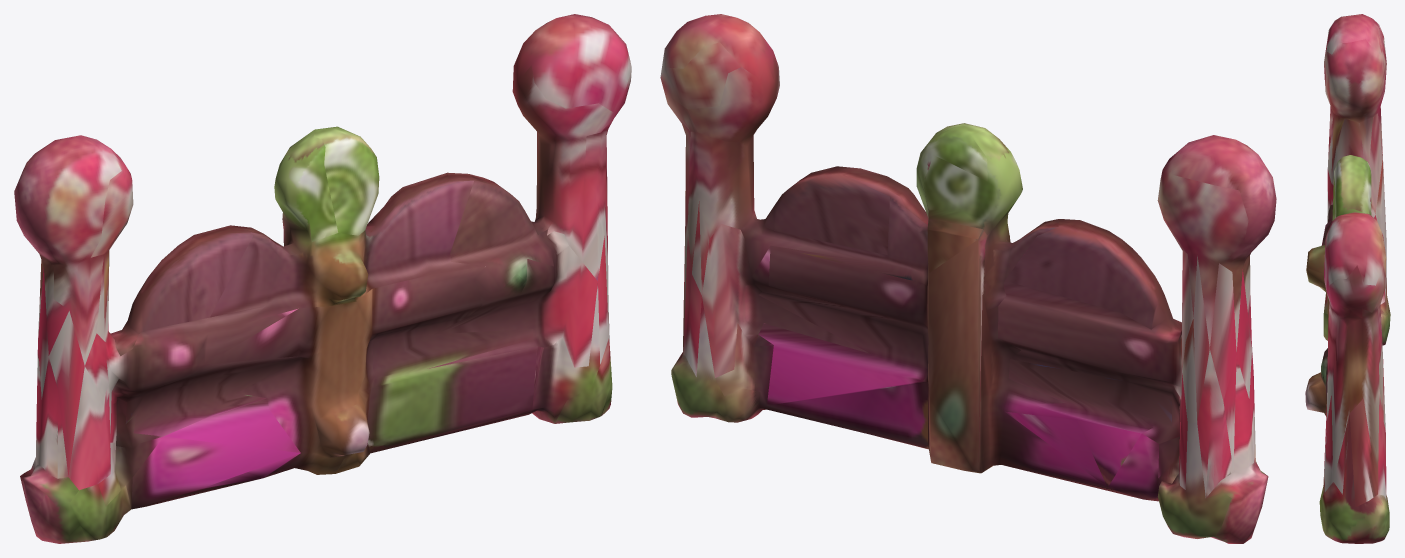
File: CF_FenceGate.fbx
The picture shows the model from 3 angles, left to right: view 1: azimuth 30°, elevation 25°; view 2: azimuth 150°, elevation 25°; view 3: azimuth 270°, elevation 25°; orthographic projection. The views are drawn at different scales.
Parts seen in each view (by area): view 1: CF_FenceGate; view 2: CF_FenceGate; view 3: CF_FenceGate.
Boxes of the visible parts, bbox=[...] form: CF_FenceGate: bbox=[14, 14, 631, 543]; CF_FenceGate: bbox=[660, 14, 1276, 543]; CF_FenceGate: bbox=[1305, 14, 1390, 543].
Size of the model in its own units: 6.01 by 3.72 by 0.9006.
